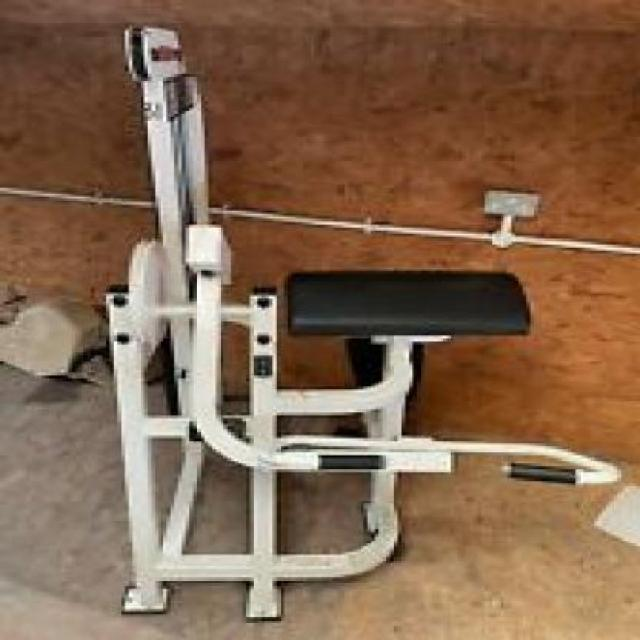arm curl machine: (101, 271, 622, 623)
